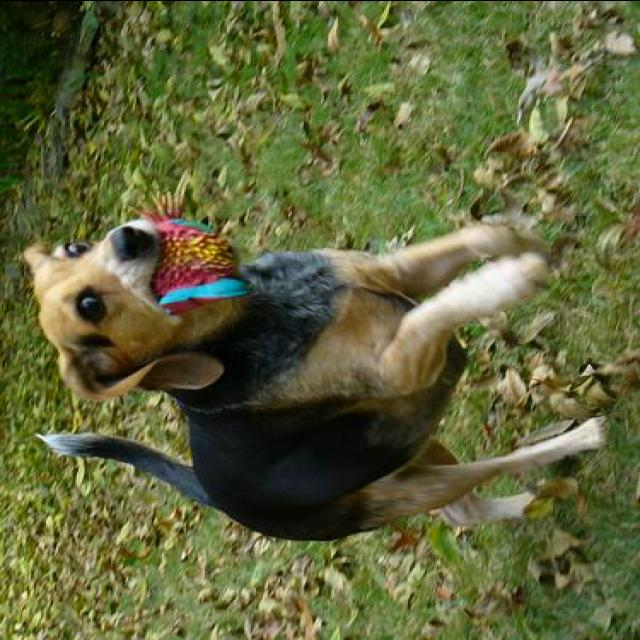beagle: (13, 208, 610, 542)
